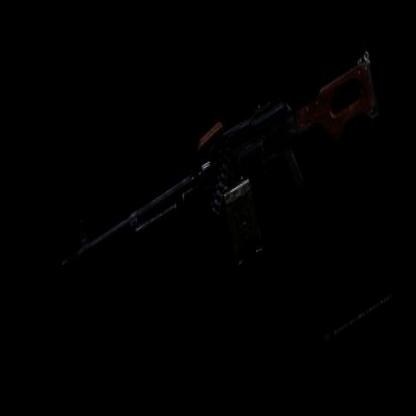rifle: (49, 12, 392, 378)
